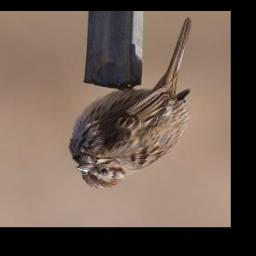Sparrow: (67, 15, 193, 190)
